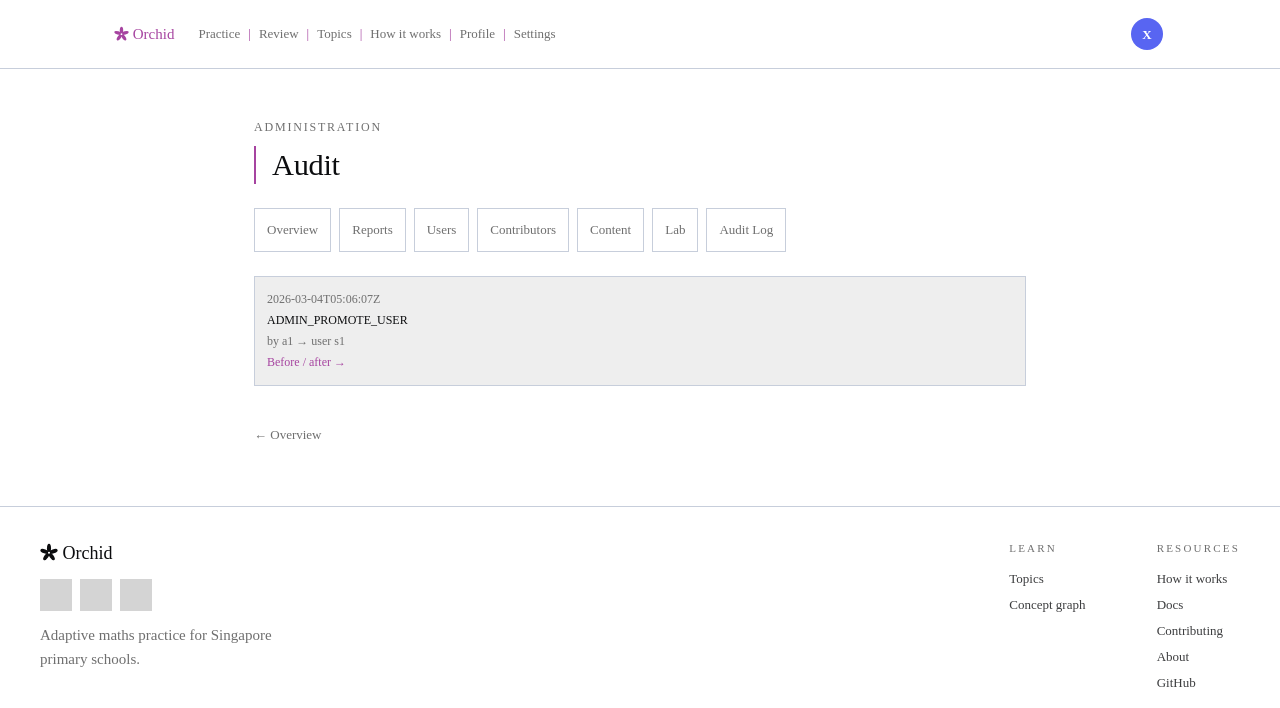
Test: the audit page is read-only › shows an unparseable record rather than nothing
Check: the text "ADMIN_PROMOTE_USER" is shown, box [267,313,408,327]
Click the button "ADMIN_PROMOTE_USER" at (324, 299), box [255,277,1025,385]
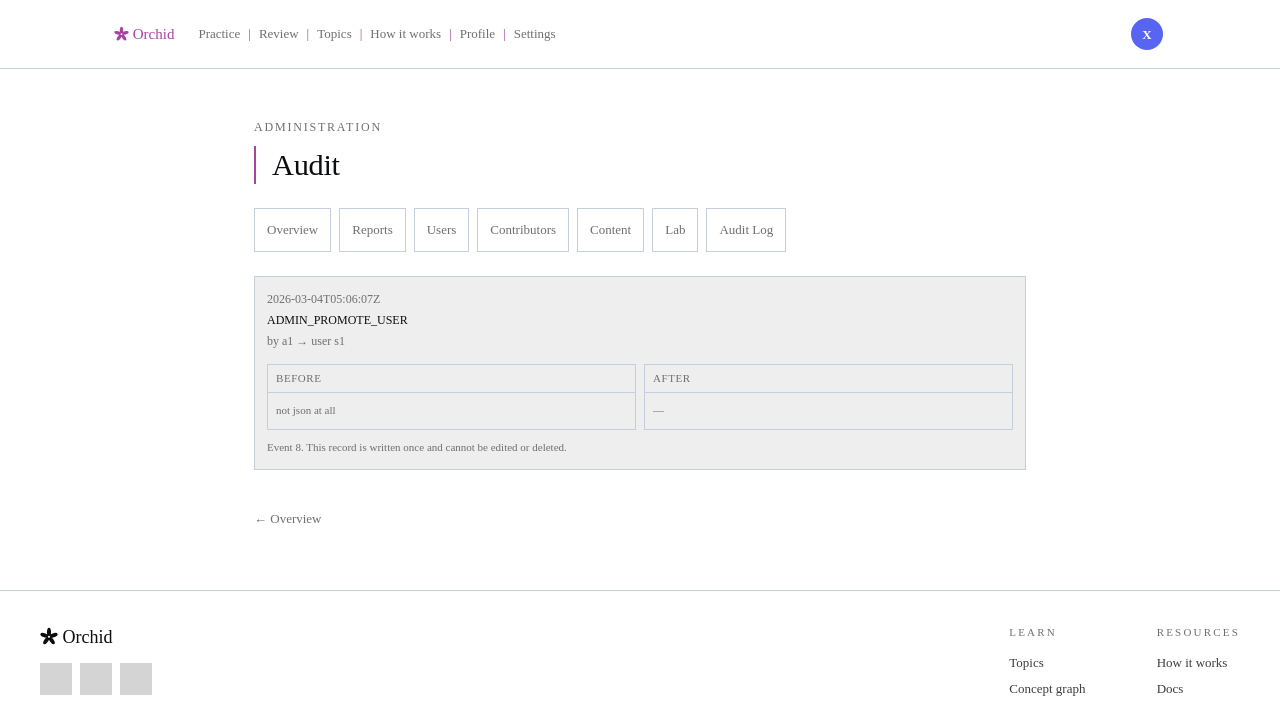
Check: the text "not json at all" is shown, box [276,404,336,416]
